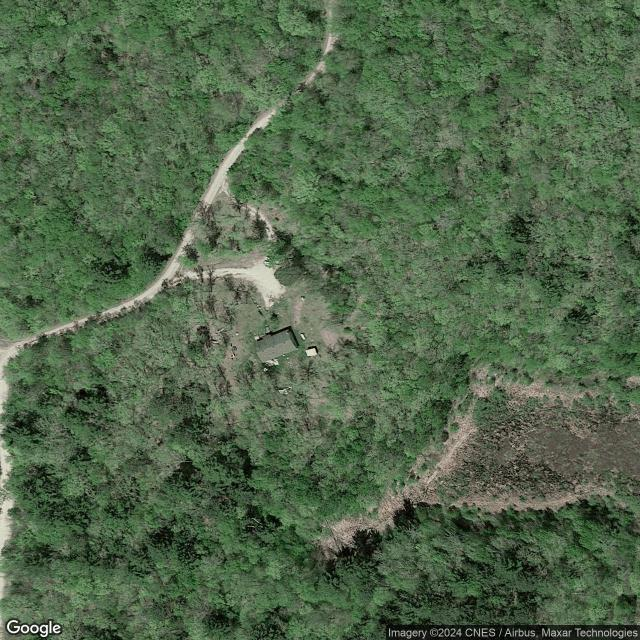Propane: (299, 333, 307, 341)
